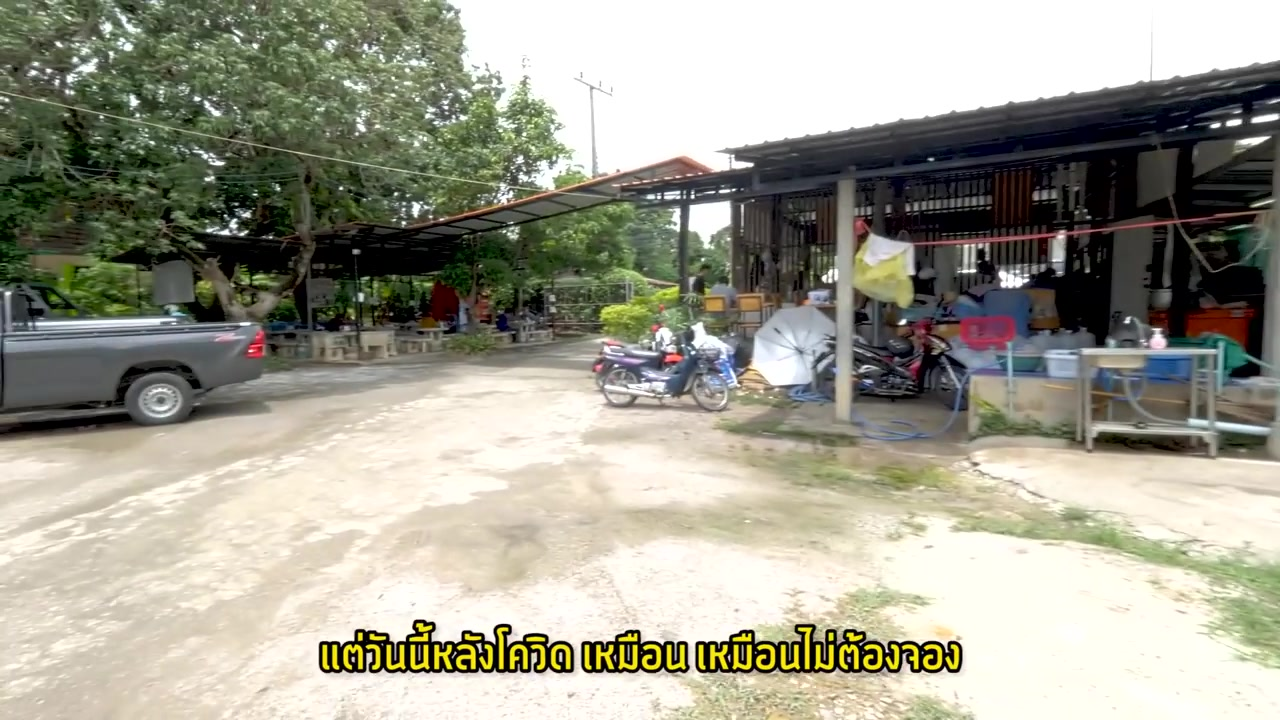text-label: (313, 619, 963, 674)
